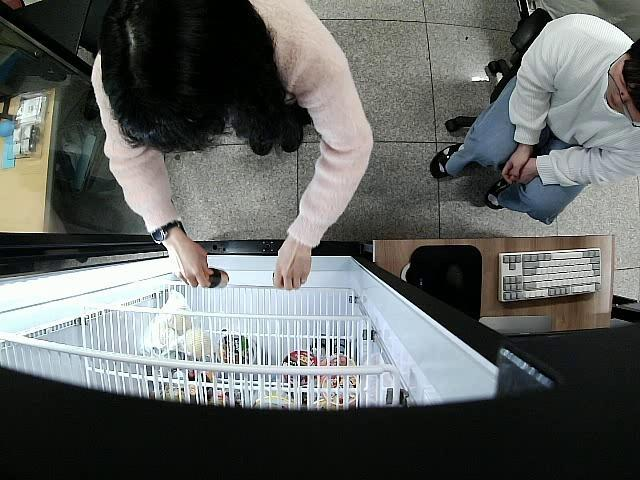17_vita500: (202, 265, 229, 290)
